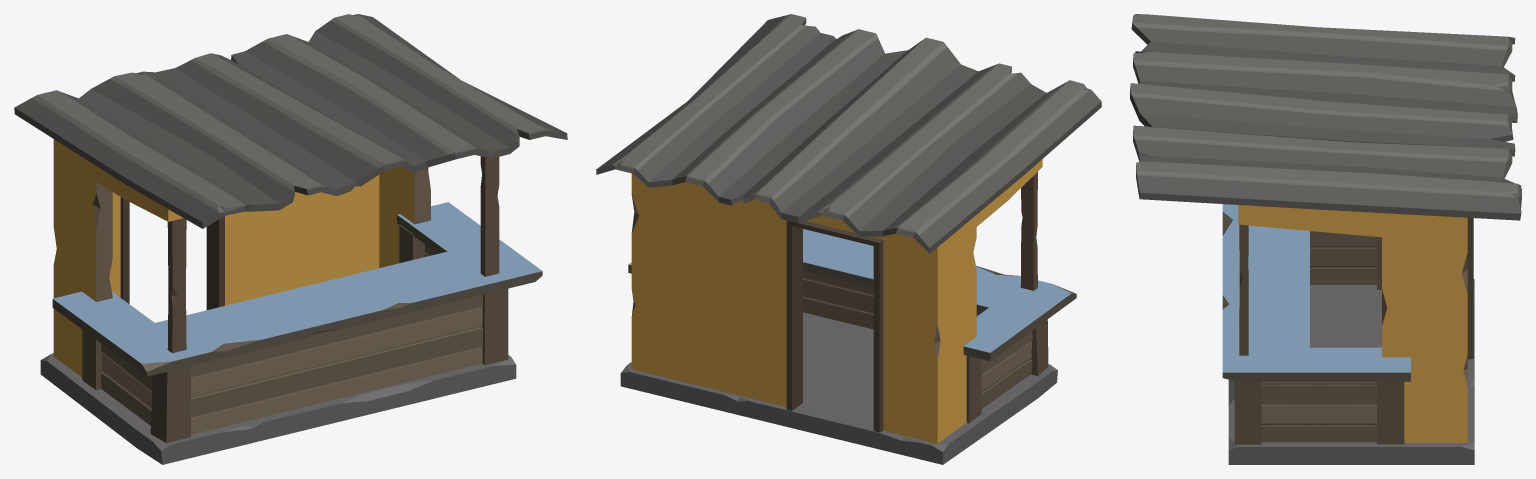
The model's file is SM_Bld_Beach_Shop_02.glb.
3 renders of one model, left to right at view 1: azimuth 30°, elevation 25°; view 2: azimuth 150°, elevation 25°; view 3: azimuth 270°, elevation 25°, orthographic. The views are drawn at different scales.
Visible parts, largest first — view 1: SM_Bld_Beach_Shop_02; view 2: SM_Bld_Beach_Shop_02; view 3: SM_Bld_Beach_Shop_02.
Boxes of the visible parts, x1=… form: SM_Bld_Beach_Shop_02: x1=14, y1=14, x2=567, y2=464; SM_Bld_Beach_Shop_02: x1=596, y1=14, x2=1101, y2=464; SM_Bld_Beach_Shop_02: x1=1130, y1=14, x2=1521, y2=464.
Size of the model in its own units: 4.44 by 3.16 by 3.81.
1 material, 1 textured.
